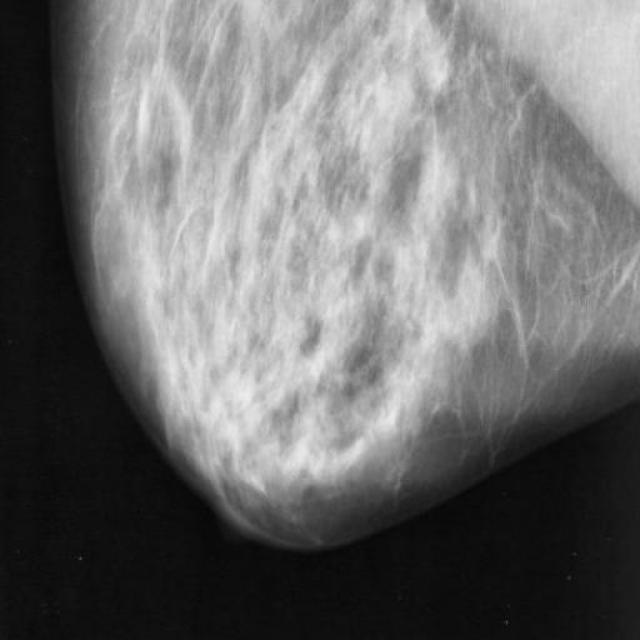cancer: (314, 172, 384, 286)
